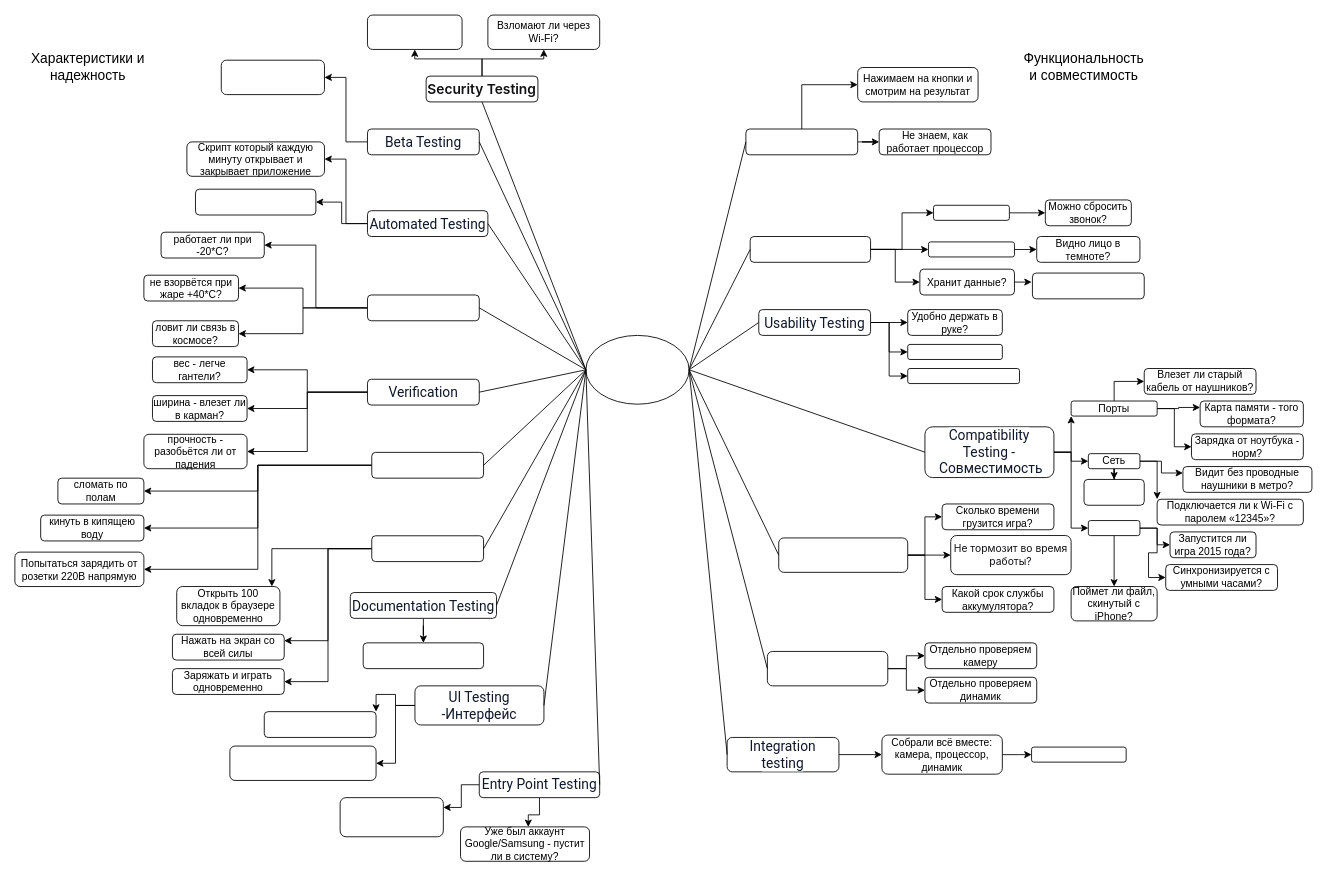
This 1328x877 diagram has some shape labels left out. The centre of each missing label's shape, as x and y in pixels:
Black Box Testing: the point at 801,141
Component Testing: the point at 827,668
Functional Testing: the point at 810,249
Negative Testing: the point at 427,465
Performance Testing: the point at 843,554
Stress Testing: the point at 427,548
Validation: the point at 423,307
Звонит?: the point at 971,212
Красивые ли иконки?: the point at 319,724
Ловит связь в деревне?: the point at 1113,492
Не скользит в руке?: the point at 963,376
Не стираются фото после перезагрузки?: the point at 1088,285
Подходят чехлы?: the point at 954,351
Понятна ли инструкция по переносу данных?: the point at 423,655
Разблокируется ли чужим лицом?: the point at 414,31
раздать детям поиграть: the point at 272,77
Распаковали, включили - загрузился?: the point at 391,817
сделать робота который кликает по экрану: the point at 255,201
снимает видео?: the point at 1078,754
Софт: the point at 1113,528
Телефон: the point at 637,369
Удобно ли нажимать большим пальцем одной рукой?: the point at 302,762
Фотографирует?: the point at 971,249
